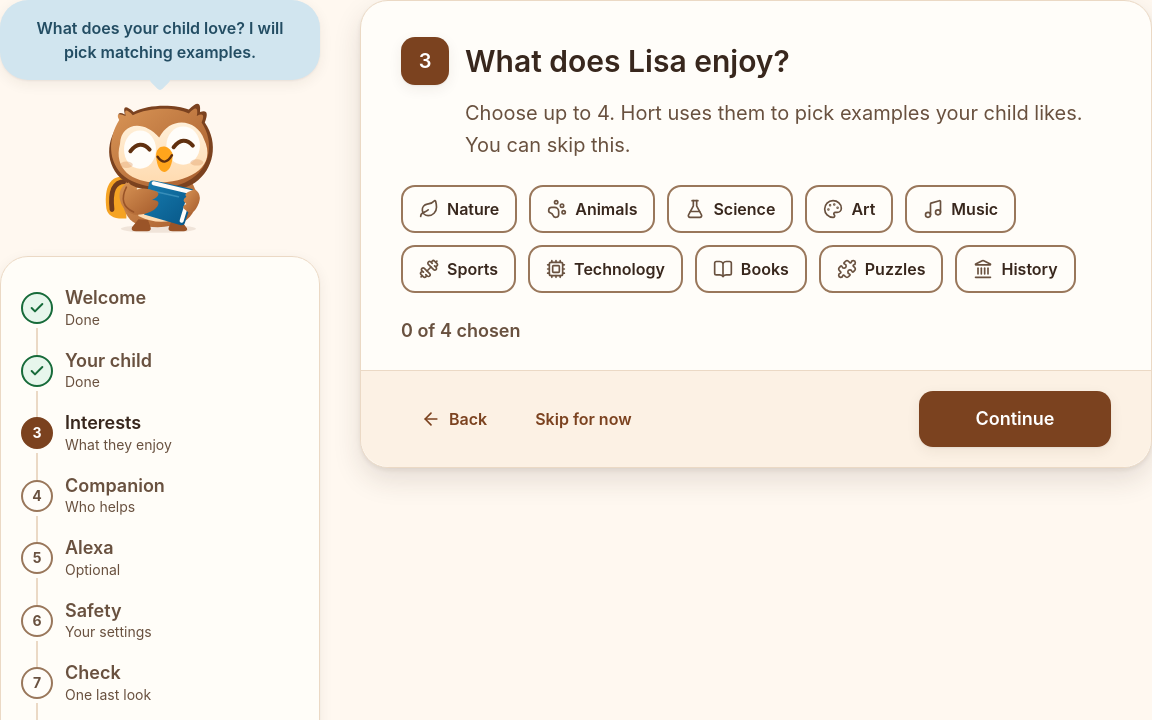
Test: onboarding flow › saves the chosen interests
This screenshot has width=1152, height=720.
Click the button "Nature" at [459, 209], box [401,185,517,233]
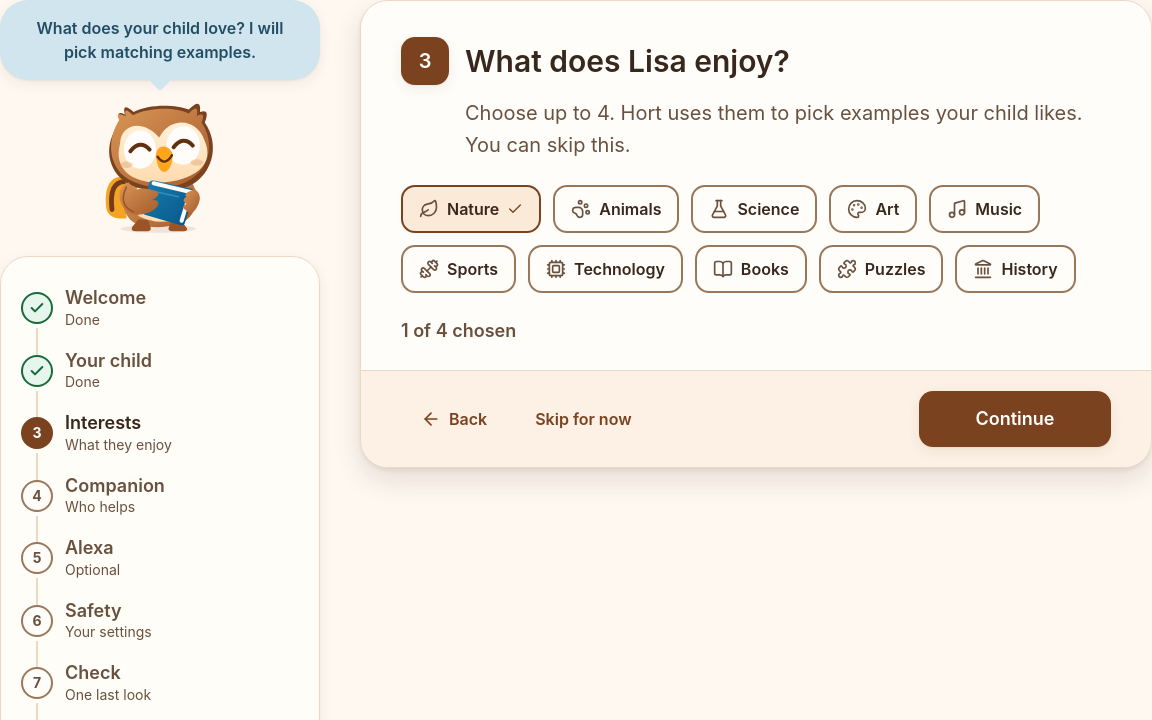
Click the button "Sports" at [459, 269], box [401,245,516,293]
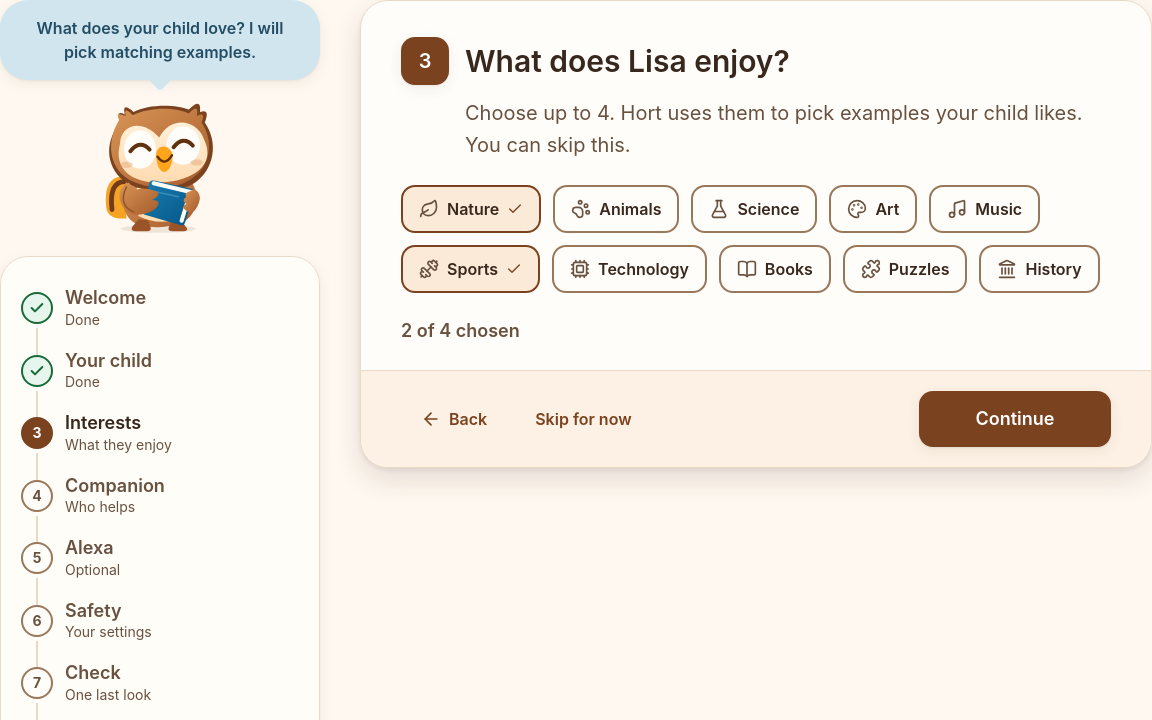
Check: the text "2 of 4 chosen" is shown, box [401,320,520,341]
Click the button "Continue" at [1015, 419], box [919,391,1111,447]
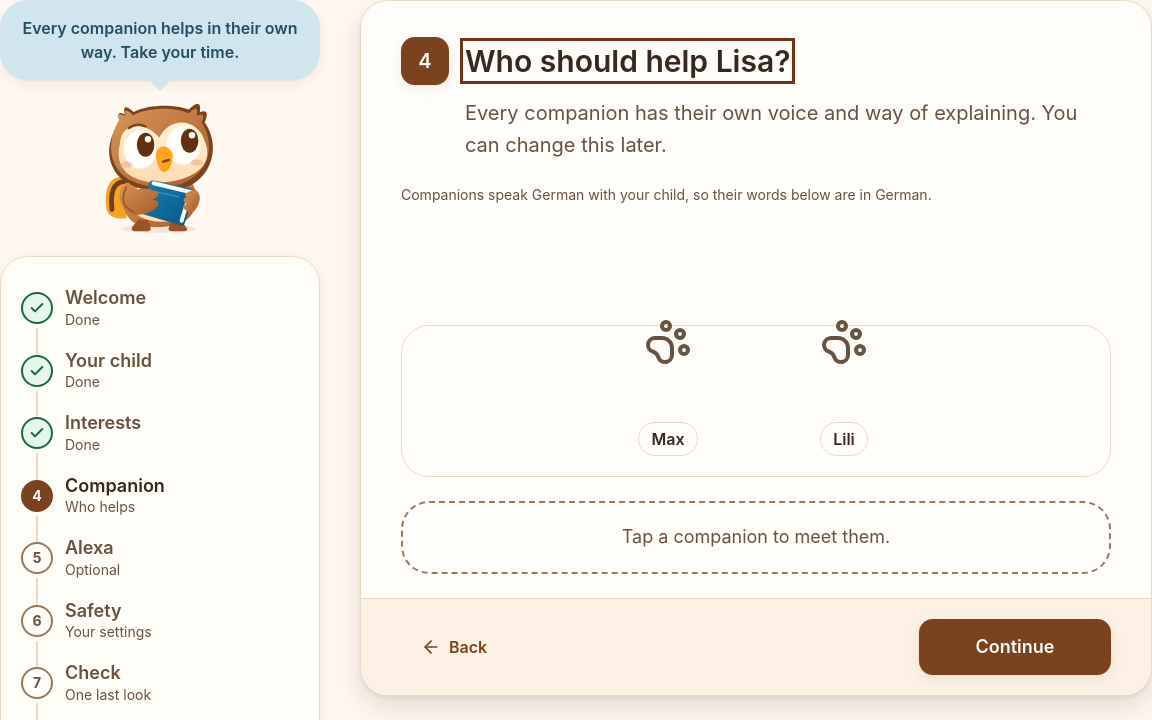
Check: the heading "Who should help Lisa?" is shown, box [465,43,790,79]
